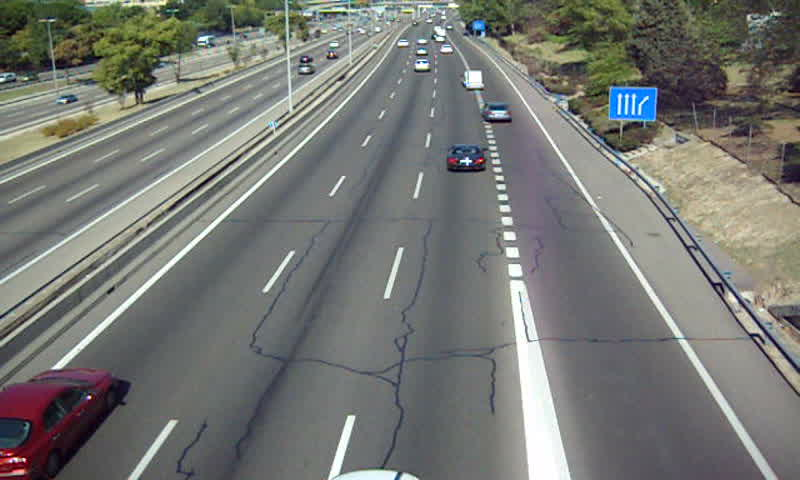car: (1, 368, 117, 480), (445, 145, 488, 172), (482, 103, 511, 123), (413, 59, 430, 71)
van: (463, 70, 483, 88)
